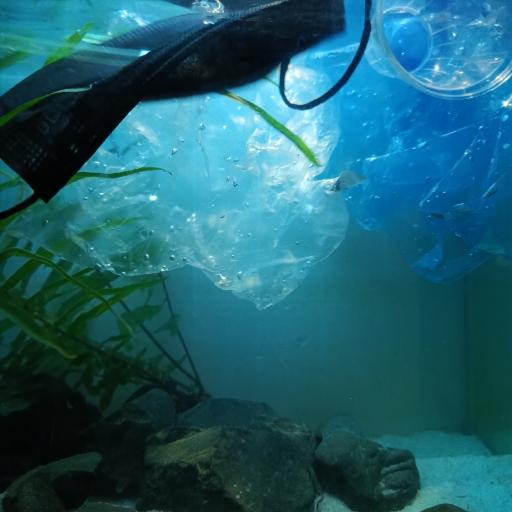mask: (0, 0, 374, 218)
plastic_bag: (1, 0, 353, 310), (330, 0, 512, 289)
plastic_cup: (366, 0, 512, 101)
plastic_straw: (1, 31, 148, 67)
